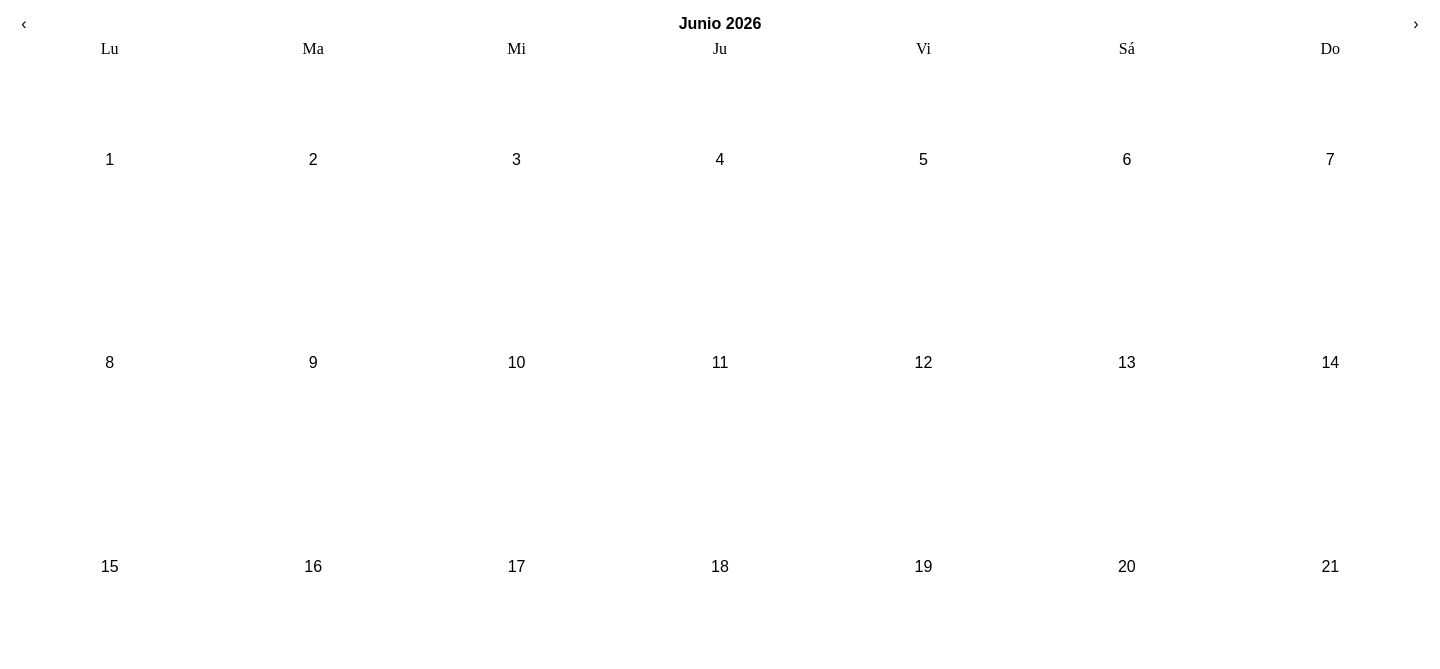
Test: BipCalendarGrid › seleccionar un mes vuelve a la vista de días en ese mes
The width and height of the screenshot is (1440, 669).
Click the button "Junio 2026".
click(720, 24)  # box top-left (679, 15), bottom-right (761, 33)
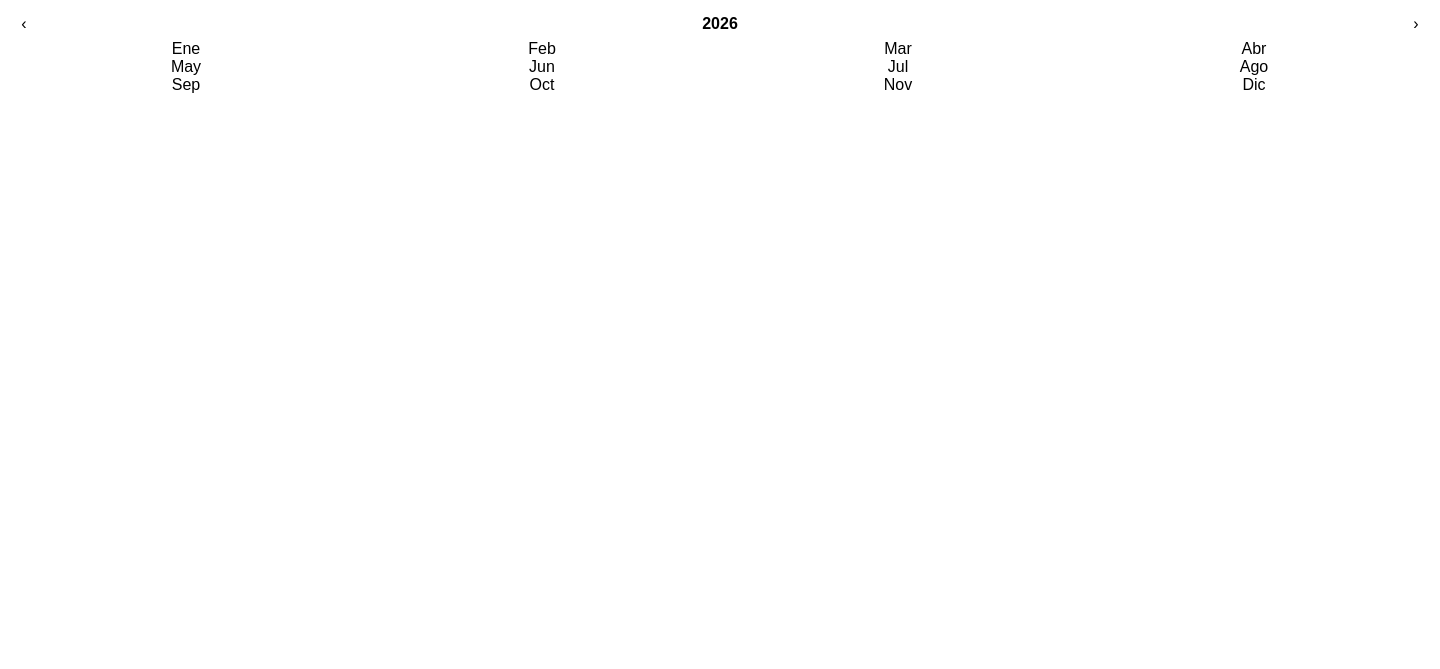
Click the button with aria-label "Agosto 2026".
click(1254, 67)  # box top-left (1076, 58), bottom-right (1432, 76)
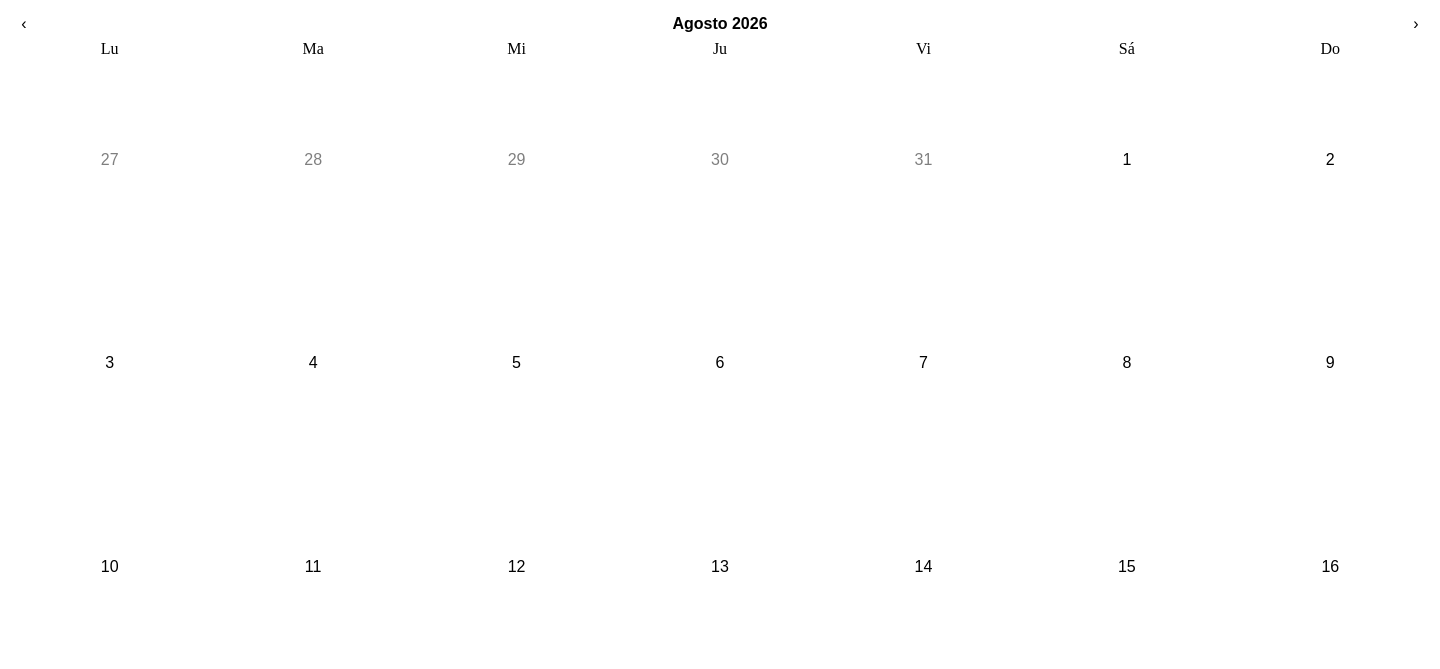
Expected: the button "Agosto 2026" is shown, top-left (672, 15), bottom-right (768, 33)
